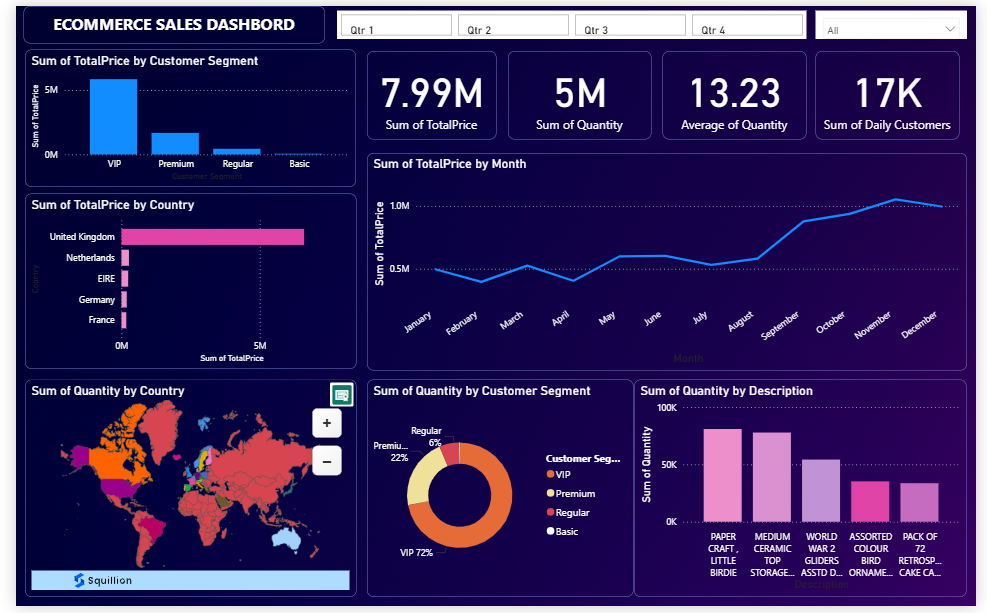

The dashboard page shown, as its layout file describes it:
{"tool":"powerbi","page":{"name":"Page 1","canvas":[1280,800],"ordinal":0},"visuals":[{"type":"textbox","box":[10,0,402,50],"z":0},{"type":"columnChart","fields":{"Category":["customer_analytics.Customer Segment"],"Y":["Sum(cleaned_data.TotalPrice)"]},"box":[11.1,58.9,441.1,183.3],"z":1000},{"type":"card","fields":{"Values":["Sum(cleaned_data.TotalPrice)"]},"box":[467.3,59.1,172.7,118.2],"z":2000},{"type":"card","fields":{"Values":["Avg(cleaned_data.Quantity)"]},"box":[861,59,192,118],"z":3000},{"type":"card","fields":{"Values":["Sum(cleaned_data.Quantity)"]},"box":[656,59,191,118],"z":4000},{"type":"clusteredBarChart","fields":{"Category":["cleaned_data.Country"],"Y":["Sum(cleaned_data.TotalPrice)"]},"box":[12,250,442,234],"z":5000},{"type":"MapBySquillion","fields":{"category":["cleaned_data.Country"],"value":["Sum(cleaned_data.Quantity)"]},"box":[12,498,442,290],"z":6000},{"type":"lineChart","fields":{"Y":["Sum(cleaned_data.TotalPrice)"],"Category":["cleaned_data.InvoiceDate.Variation.Date Hierarchy.Month"]},"box":[467.5,195,800,290],"z":7000},{"type":"donutChart","fields":{"Category":["customer_analytics.Customer Segment"],"Y":["Sum(cleaned_data.Quantity)"]},"box":[468.3,498.3,355,290],"z":8000},{"type":"columnChart","fields":{"Y":["Sum(cleaned_data.Quantity)"],"Category":["cleaned_data.Description"]},"box":[823.3,498.3,443.3,290],"z":9000},{"type":"card","fields":{"Values":["Sum(daily_time_series.Daily Customers)"]},"box":[1065,60,192,118],"z":10000},{"type":"slicer","fields":{"Values":["cleaned_data.InvoiceDate.Variation.Date Hierarchy.Year","cleaned_data.InvoiceDate.Variation.Date Hierarchy.Quarter","cleaned_data.InvoiceDate.Variation.Date Hierarchy.Month","cleaned_data.InvoiceDate.Variation.Date Hierarchy.Day"]},"box":[1066,6,202,38],"z":11000},{"type":"advancedSlicerVisual","fields":{"Values":["cleaned_data.InvoiceDate.Variation.Date Hierarchy.Quarter"]},"box":[428,6,626,38],"z":12000}]}

Visuals, with their boxes in screenshot pixels (x1, y1, x2, y2), scaled from the page's 1280x800 canvas onto the 987x613 screenshot:
textbox: {"x1": 8, "y1": 0, "x2": 318, "y2": 38}
columnChart - customer_analytics.Customer Segment x Sum(cleaned_data.TotalPrice): {"x1": 9, "y1": 45, "x2": 349, "y2": 186}
card - Sum(cleaned_data.TotalPrice): {"x1": 360, "y1": 45, "x2": 494, "y2": 136}
card - Avg(cleaned_data.Quantity): {"x1": 664, "y1": 45, "x2": 812, "y2": 136}
card - Sum(cleaned_data.Quantity): {"x1": 506, "y1": 45, "x2": 653, "y2": 136}
clusteredBarChart - cleaned_data.Country x Sum(cleaned_data.TotalPrice): {"x1": 9, "y1": 192, "x2": 350, "y2": 371}
MapBySquillion - cleaned_data.Country x Sum(cleaned_data.Quantity): {"x1": 9, "y1": 382, "x2": 350, "y2": 604}
lineChart - Sum(cleaned_data.TotalPrice) x cleaned_data.InvoiceDate.Variation.Date Hierarchy.Month: {"x1": 360, "y1": 149, "x2": 977, "y2": 372}
donutChart - customer_analytics.Customer Segment x Sum(cleaned_data.Quantity): {"x1": 361, "y1": 382, "x2": 635, "y2": 604}
columnChart - Sum(cleaned_data.Quantity) x cleaned_data.Description: {"x1": 635, "y1": 382, "x2": 977, "y2": 604}
card - Sum(daily_time_series.Daily Customers): {"x1": 821, "y1": 46, "x2": 969, "y2": 136}
slicer - cleaned_data.InvoiceDate.Variation.Date Hierarchy.Year x cleaned_data.InvoiceDate.Variation.Date Hierarchy.Quarter: {"x1": 822, "y1": 5, "x2": 978, "y2": 34}
advancedSlicerVisual - cleaned_data.InvoiceDate.Variation.Date Hierarchy.Quarter: {"x1": 330, "y1": 5, "x2": 813, "y2": 34}
